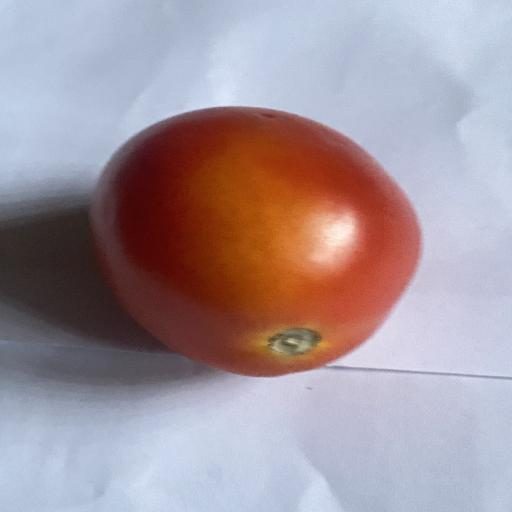ripe: (91, 107, 421, 376)
